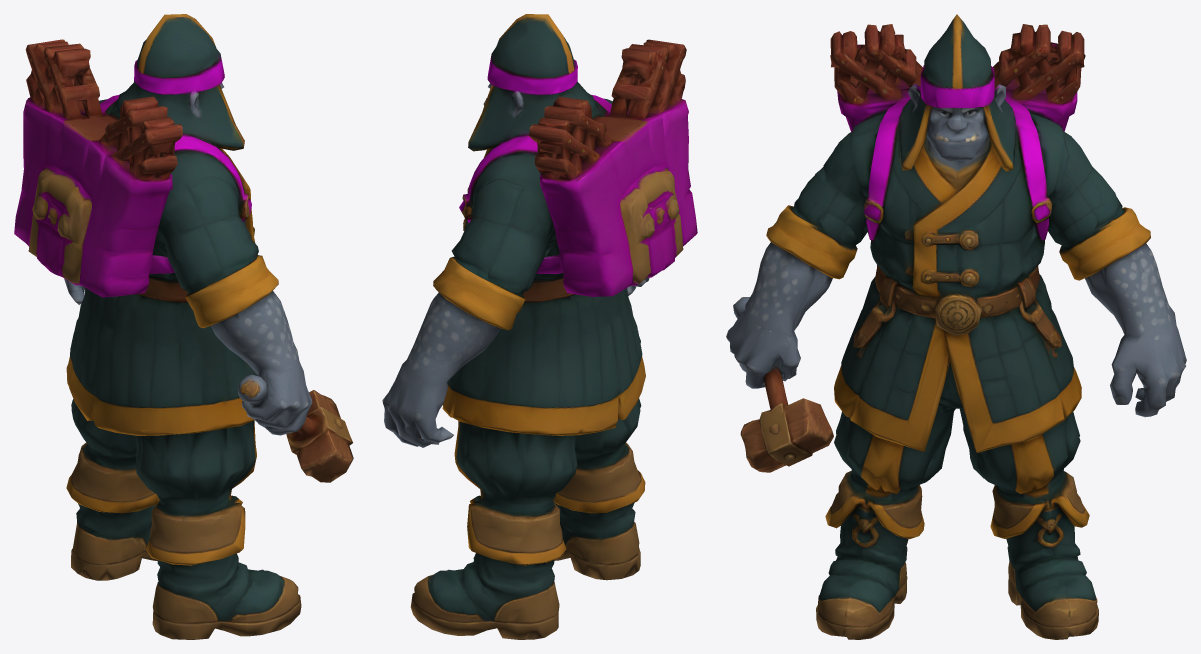
File: model_tripo_h31.glb
The picture shows the model from 3 angles, left to right: view 1: azimuth 30°, elevation 25°; view 2: azimuth 150°, elevation 25°; view 3: azimuth 270°, elevation 25°; orthographic projection. The views are drawn at different scales.
Visible parts, largest first — view 1: tripo_node_d6190c25-a826-461d-bae0-eb2128550bc6; view 2: tripo_node_d6190c25-a826-461d-bae0-eb2128550bc6; view 3: tripo_node_d6190c25-a826-461d-bae0-eb2128550bc6.
Boxes of the visible parts, x1=… form: tripo_node_d6190c25-a826-461d-bae0-eb2128550bc6: x1=14, y1=14, x2=353, y2=639; tripo_node_d6190c25-a826-461d-bae0-eb2128550bc6: x1=382, y1=14, x2=697, y2=639; tripo_node_d6190c25-a826-461d-bae0-eb2128550bc6: x1=726, y1=14, x2=1186, y2=639.
Size of the model in its own units: 0.3959 by 1 by 0.7074.
1 material, 1 textured.
